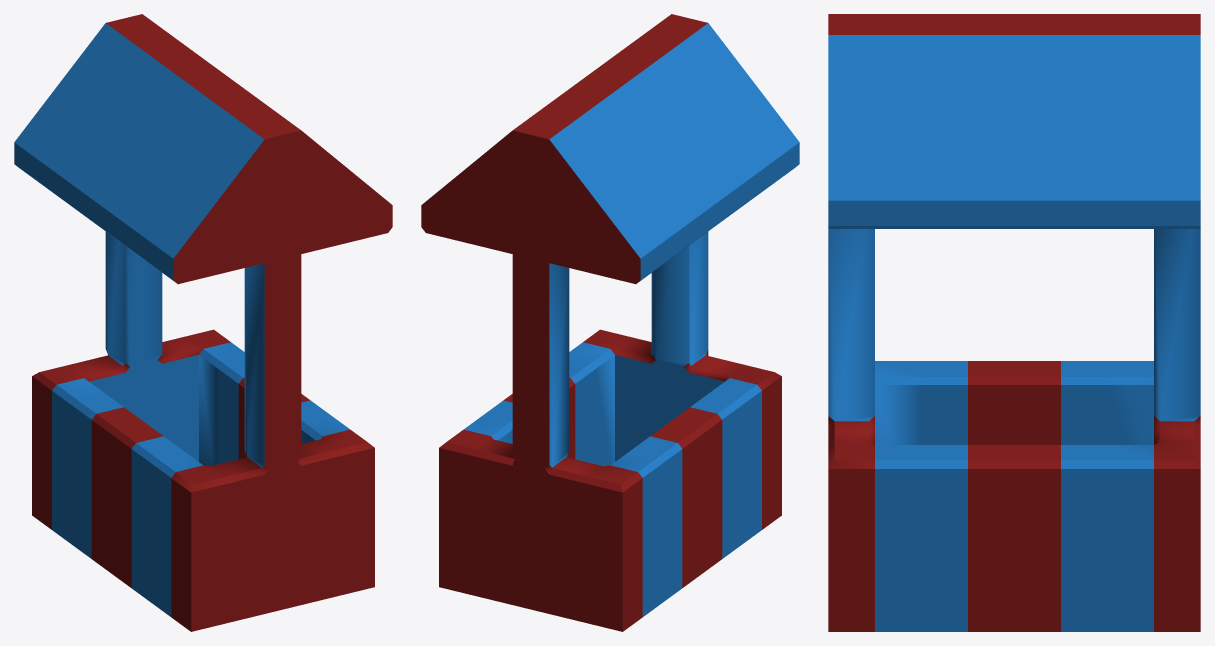
File: Stall 2 Textured.FBX
3 renders of one model, left to right at view 1: azimuth 30°, elevation 25°; view 2: azimuth 150°, elevation 25°; view 3: azimuth 270°, elevation 25°, orthographic. The views are drawn at different scales.
Visible parts, largest first — view 1: Stall 2; view 2: Stall 2; view 3: Stall 2.
Boxes of the visible parts, x1,y1,x2,y2 form: Stall 2: (14, 14, 392, 631); Stall 2: (421, 14, 799, 631); Stall 2: (828, 14, 1200, 631).
Size of the model in its own units: 7.67 by 15.86 by 9.64.
3 materials, 2 textured.
